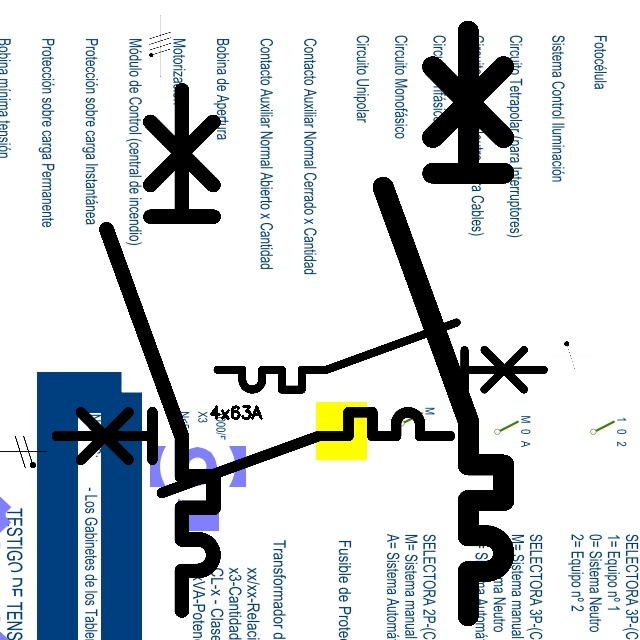interruptor_termomagnetico: (368, 16, 519, 631), (93, 76, 227, 623), (46, 402, 459, 503), (209, 314, 552, 398)
